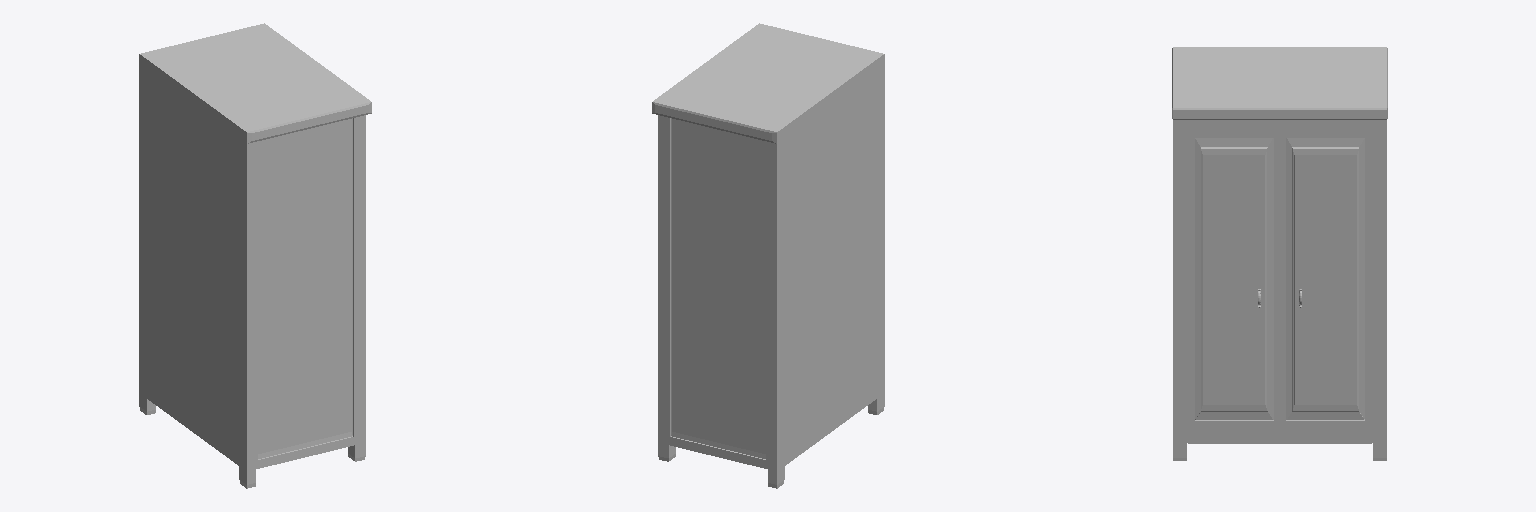
File: guarda_roupa.obj
3 renders of one model, left to right at view 1: azimuth 30°, elevation 25°; view 2: azimuth 150°, elevation 25°; view 3: azimuth 270°, elevation 25°, orthographic.
Parts seen in each view (by area): view 1: guarda_roupa_Cube.012; view 2: guarda_roupa_Cube.012; view 3: guarda_roupa_Cube.012.
Boxes of the visible parts, <box> form: guarda_roupa_Cube.012: <box>139,23,371,488</box>; guarda_roupa_Cube.012: <box>652,23,884,488</box>; guarda_roupa_Cube.012: <box>1172,47,1387,460</box>.
Size of the model in its own units: 1.2 by 3.25 by 1.78.